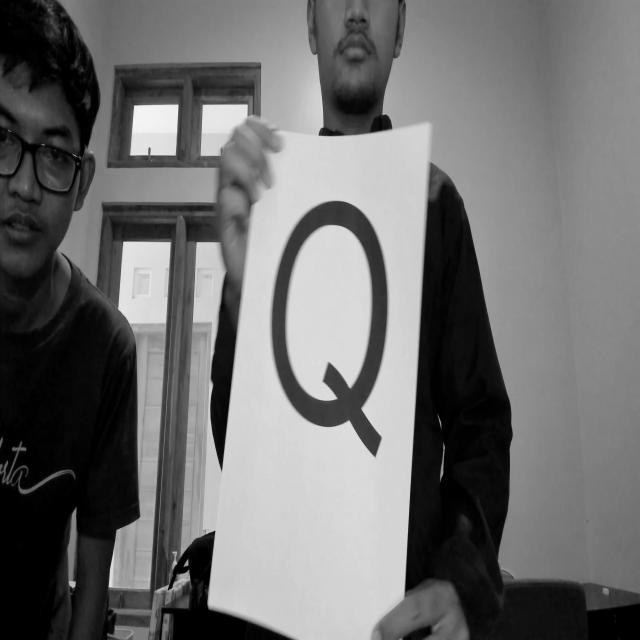q: (263, 190, 400, 493)
